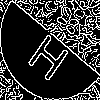H: (25, 25, 76, 84)
